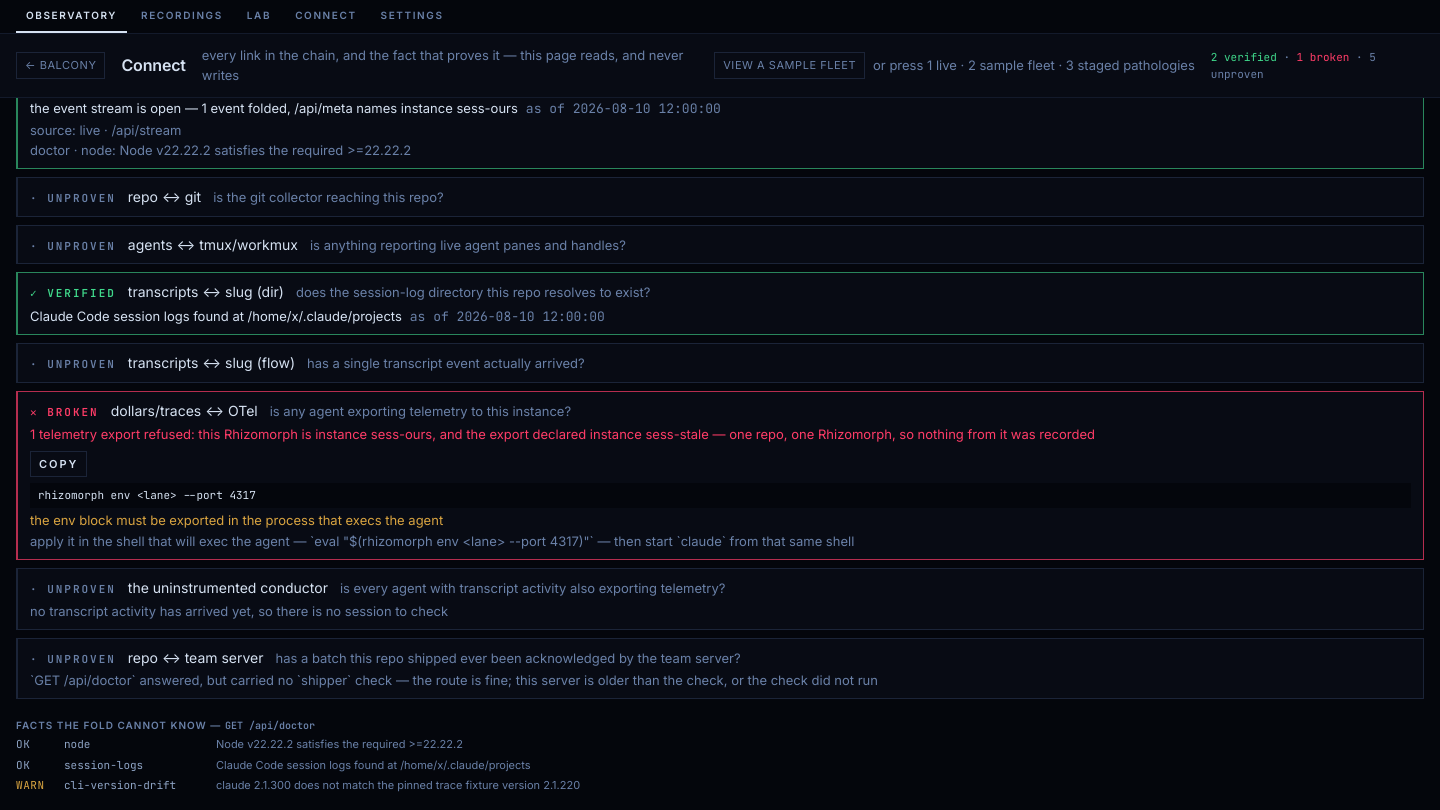
the page's only action › leaves the command selectable, and says so, when the clipboard refuses
(page scrolled)
Click the button with test id "connect-copy-otel": click(59, 464) x1=30 y1=450 x2=87 y2=477
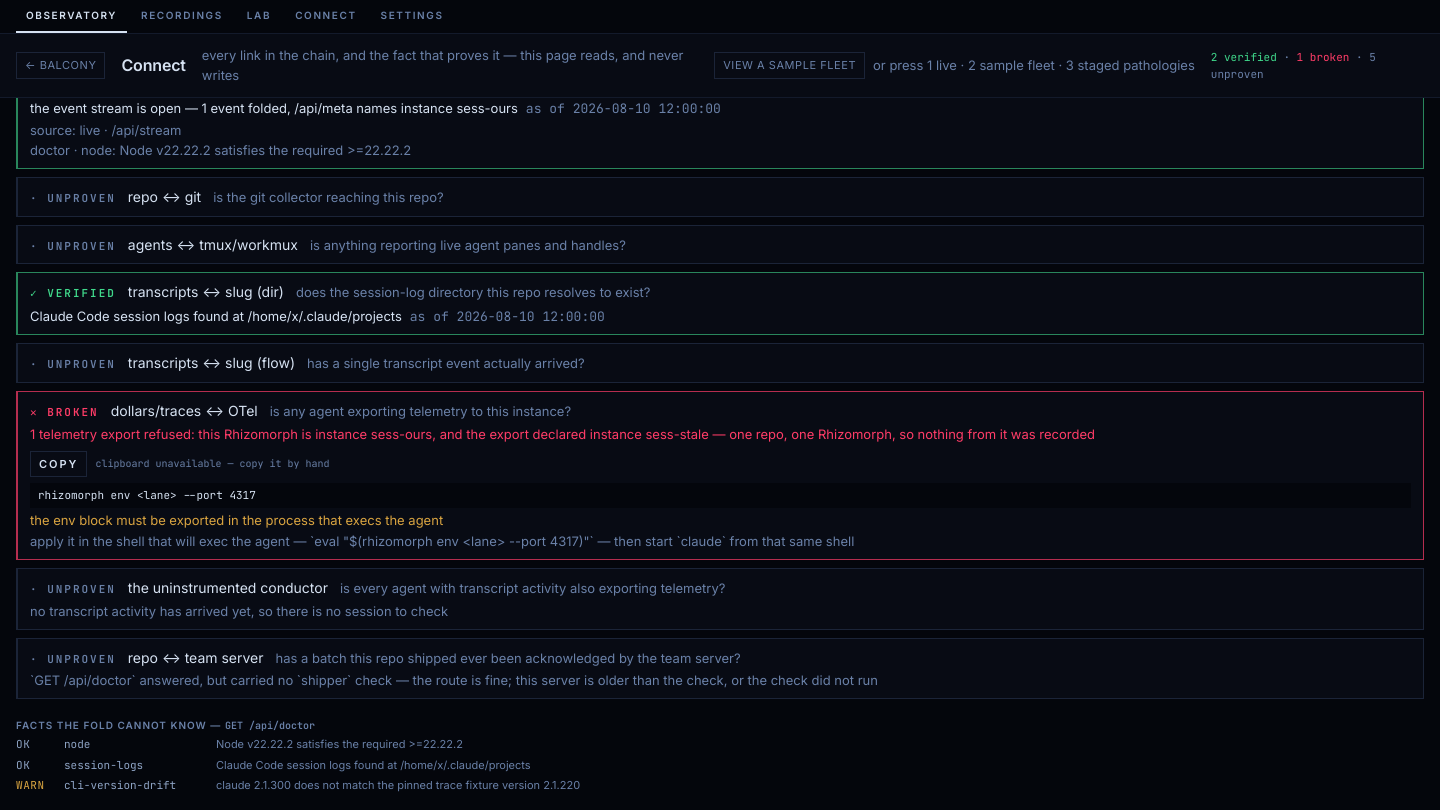
Now the message shows "clipboard unavailable", box x1=95 y1=457 x2=329 y2=470
